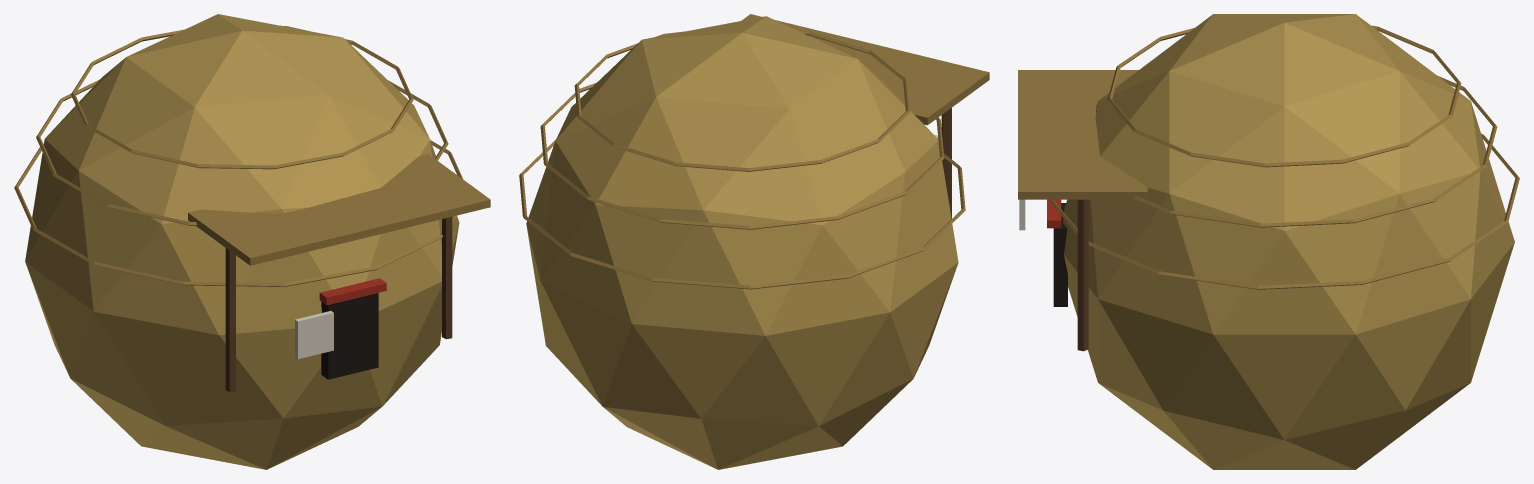
File: elephant_house_c_broken.glb
3 views of the same model, side by side, from view 1: azimuth 30°, elevation 25°; view 2: azimuth 150°, elevation 25°; view 3: azimuth 270°, elevation 25° (orthographic). The views are drawn at different scales.
Parts seen in each view (by area): view 1: elephant_house_c_piece3, elephant_house_c_piece7, elephant_house_c_piece4, elephant_house_c_piece8, elephant_house_c_piece2, elephant_house_c_piece9, elephant_house_c_piece10; view 2: elephant_house_c_piece4, elephant_house_c_piece6, elephant_house_c_piece3, elephant_house_c_piece13, elephant_house_c_piece0, elephant_house_c_piece11, elephant_house_c_piece7, elephant_house_c_piece10, elephant_house_c_piece1, elephant_house_c_piece2; view 3: elephant_house_c_piece2, elephant_house_c_piece3, elephant_house_c_piece0, elephant_house_c_piece5, elephant_house_c_piece10, elephant_house_c_piece8, elephant_house_c_piece11, elephant_house_c_piece13, elephant_house_c_piece12, elephant_house_c_piece4, elephant_house_c_piece6, elephant_house_c_piece9 (+1 smaller).
Part boxes in pixels (<box>): elephant_house_c_piece3: <box>154,17,385,371</box>; elephant_house_c_piece7: <box>67,117,276,448</box>; elephant_house_c_piece4: <box>14,34,175,373</box>; elephant_house_c_piece8: <box>175,242,452,469</box>; elephant_house_c_piece2: <box>345,39,490,349</box>; elephant_house_c_piece9: <box>226,183,422,449</box>; elephant_house_c_piece10: <box>207,14,395,184</box>; elephant_house_c_piece4: <box>673,88,953,431</box>; elephant_house_c_piece6: <box>617,147,858,457</box>; elephant_house_c_piece3: <box>672,16,989,183</box>; elephant_house_c_piece13: <box>565,268,798,469</box>; elephant_house_c_piece0: <box>520,105,593,371</box>; elephant_house_c_piece11: <box>569,104,646,375</box>; elephant_house_c_piece7: <box>839,94,965,430</box>; elephant_house_c_piece10: <box>577,26,710,125</box>; elephant_house_c_piece1: <box>628,100,678,196</box>; elephant_house_c_piece2: <box>539,14,817,157</box>; elephant_house_c_piece2: <box>1018,120,1384,448</box>; elephant_house_c_piece3: <box>1018,14,1406,159</box>; elephant_house_c_piece0: <box>1371,143,1508,447</box>; elephant_house_c_piece5: <box>1228,219,1388,469</box>; elephant_house_c_piece10: <box>1105,61,1413,160</box>; elephant_house_c_piece8: <box>1047,199,1236,469</box>; elephant_house_c_piece11: <box>1400,84,1514,285</box>; elephant_house_c_piece13: <box>1371,235,1501,457</box>; elephant_house_c_piece12: <box>1345,148,1387,302</box>; elephant_house_c_piece4: <box>1300,14,1498,152</box>; elephant_house_c_piece6: <box>1431,82,1519,258</box>; elephant_house_c_piece9: <box>1018,128,1105,230</box>.
Size of the model in its own units: 3.27 by 3.36 by 3.48.
